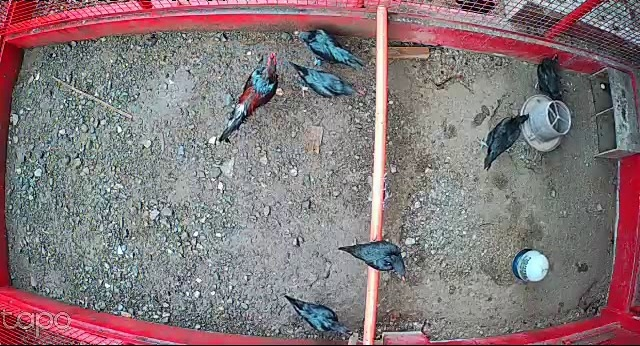Chicken: (283, 291, 359, 341), (335, 232, 409, 278), (287, 60, 363, 101), (476, 112, 530, 169), (294, 27, 364, 68), (533, 50, 567, 106)
Drinker: (512, 248, 551, 283)
Feeder: (519, 94, 571, 152)
Rooster: (217, 53, 286, 143)
